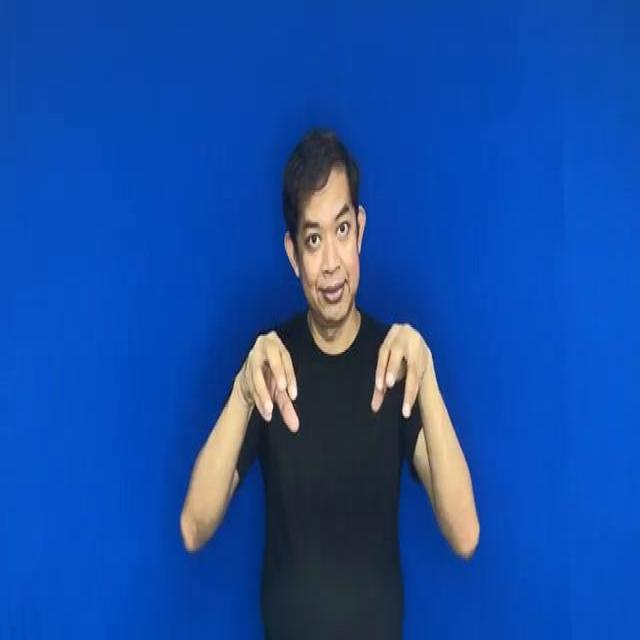egg: (216, 296, 440, 446)
